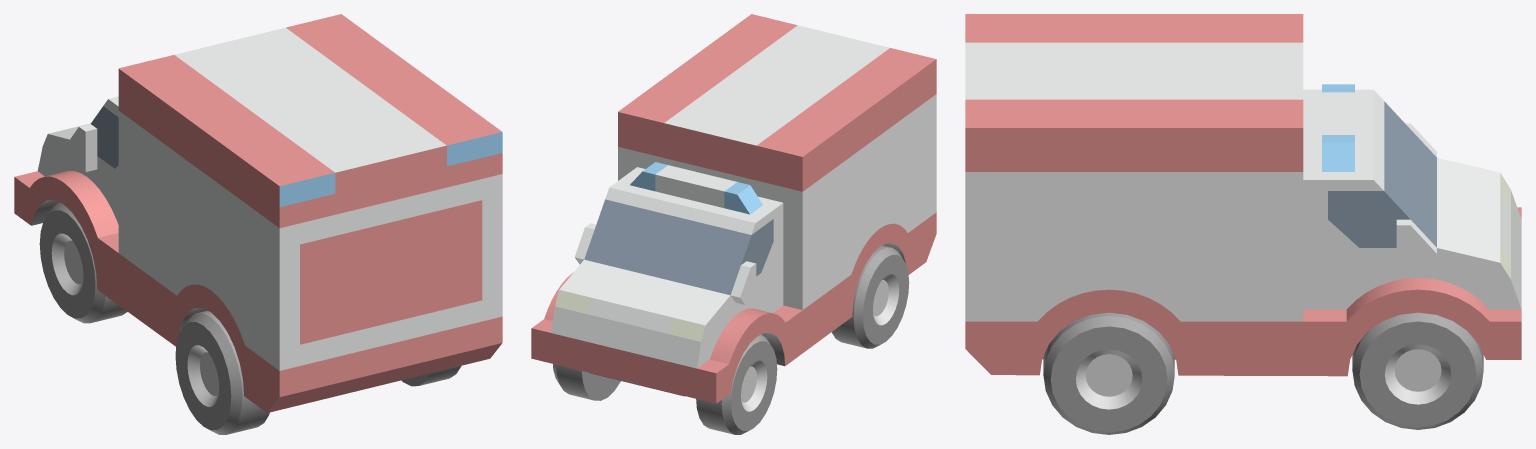
File: carAmbulance.gltf
The picture shows the model from 3 angles, left to right: view 1: azimuth 30°, elevation 25°; view 2: azimuth 150°, elevation 25°; view 3: azimuth 270°, elevation 25°; orthographic projection. The views are drawn at different scales.
Visible parts, largest first — view 1: body, wheelBackLeft, wheelFrontLeft, wheelBackRight; view 2: body, wheelBackLeft, wheelFrontLeft, wheelFrontRight; view 3: body, wheelBackRight, wheelFrontRight.
Boxes of the visible parts, box(x1,y1,x2,y2) form: body: box(14, 14, 502, 412); wheelBackLeft: box(175, 310, 269, 434); wheelFrontLeft: box(39, 202, 127, 323); wheelBackRight: box(401, 365, 461, 386); body: box(531, 14, 936, 403); wheelBackLeft: box(831, 245, 909, 348); wheelFrontLeft: box(696, 334, 777, 434); wheelFrontRight: box(553, 364, 620, 400); body: box(965, 14, 1521, 376); wheelBackRight: box(1043, 312, 1174, 434); wheelFrontRight: box(1352, 312, 1483, 429).
Bounding box in the file's own units: 0.615 × 0.7266 × 1.18.
